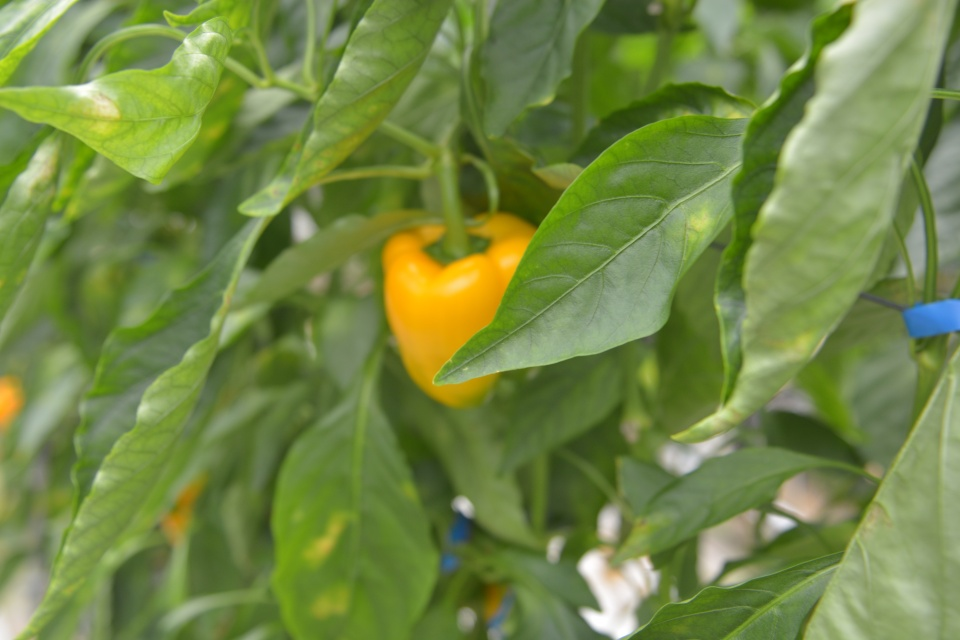fruit: (378, 207, 540, 412)
pedicle: (421, 229, 490, 266)
